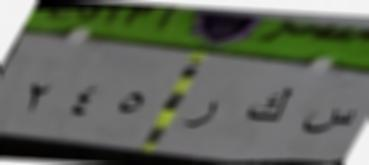2: (20, 73, 56, 119)
4: (68, 80, 103, 125)
5: (109, 84, 146, 122)
kaaf: (245, 82, 296, 130)
raa: (181, 95, 224, 134)
seen: (297, 106, 356, 136)
